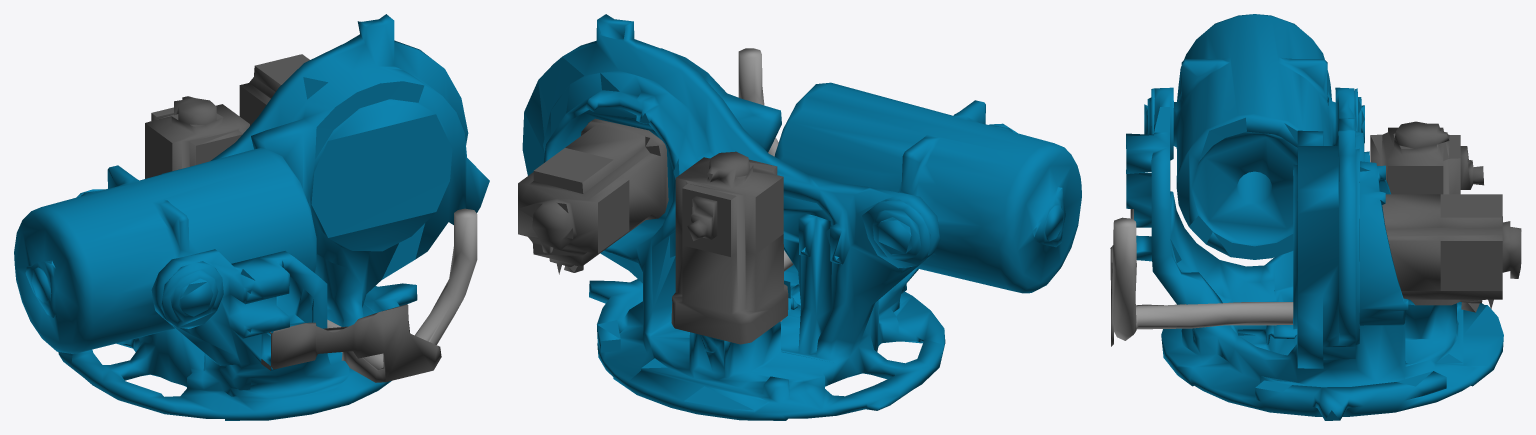
3 renders of one model, left to right at view 1: azimuth 30°, elevation 25°; view 2: azimuth 150°, elevation 25°; view 3: azimuth 270°, elevation 25°, orthographic. The views are drawn at different scales.
Visible parts, largest first — view 1: mh00215-j00_lk1, mh00215-j00_lk1-2; view 2: mh00215-j00_lk1, mh00215-j00_lk1-2; view 3: mh00215-j00_lk1, mh00215-j00_lk1-2.
Part boxes in pixels (box(x1,y1,x2,y2)): mh00215-j00_lk1: box(58, 14, 489, 420); mh00215-j00_lk1-2: box(14, 147, 316, 353); mh00215-j00_lk1: box(518, 14, 1017, 420); mh00215-j00_lk1-2: box(774, 82, 1081, 293); mh00215-j00_lk1: box(1110, 87, 1521, 420); mh00215-j00_lk1-2: box(1173, 14, 1335, 259).
Size of the model in its own units: 1.09 by 0.8172 by 0.639.
